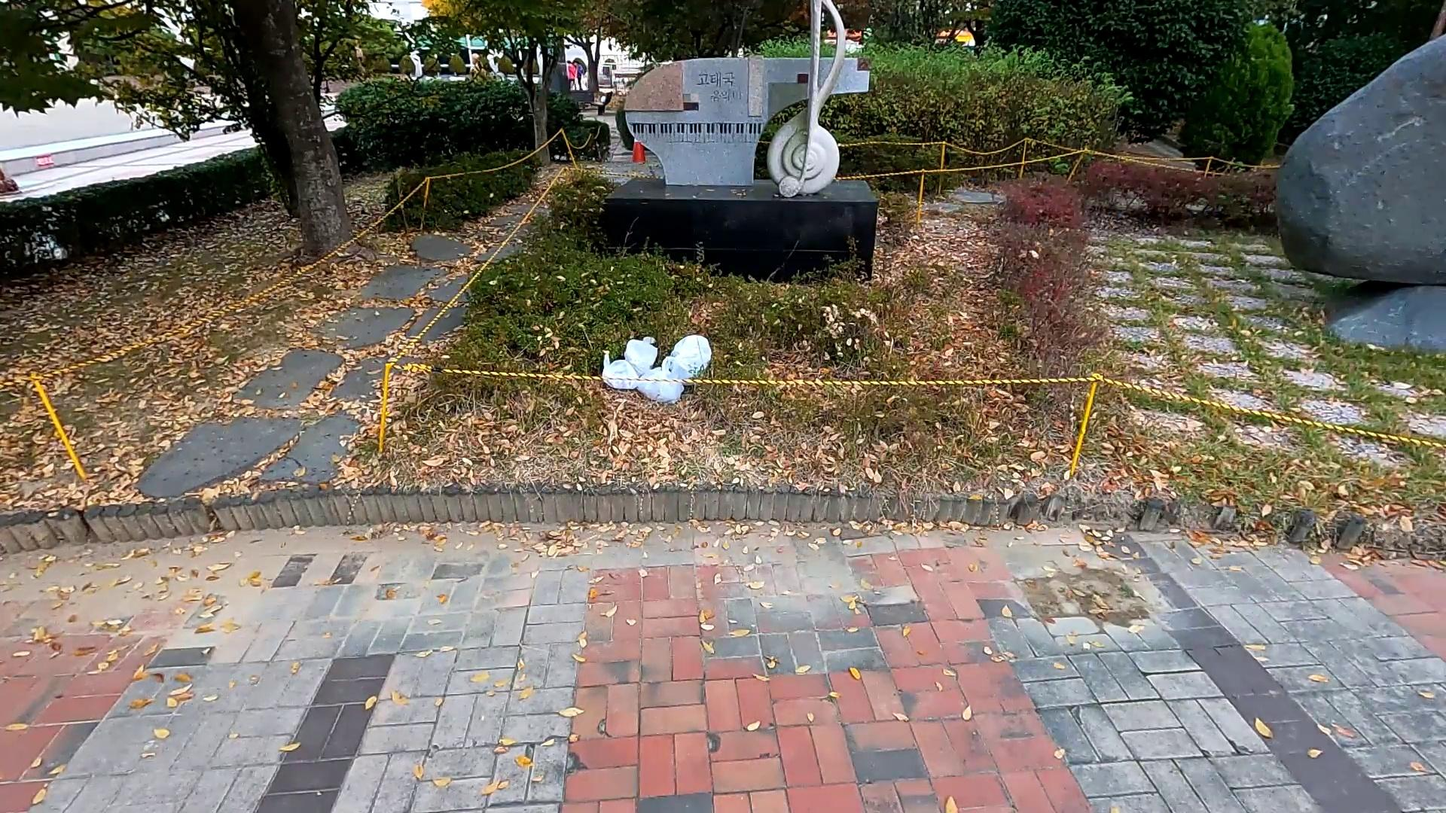trash: (662, 335, 711, 382), (638, 367, 684, 405), (599, 350, 638, 389), (625, 334, 658, 376)
